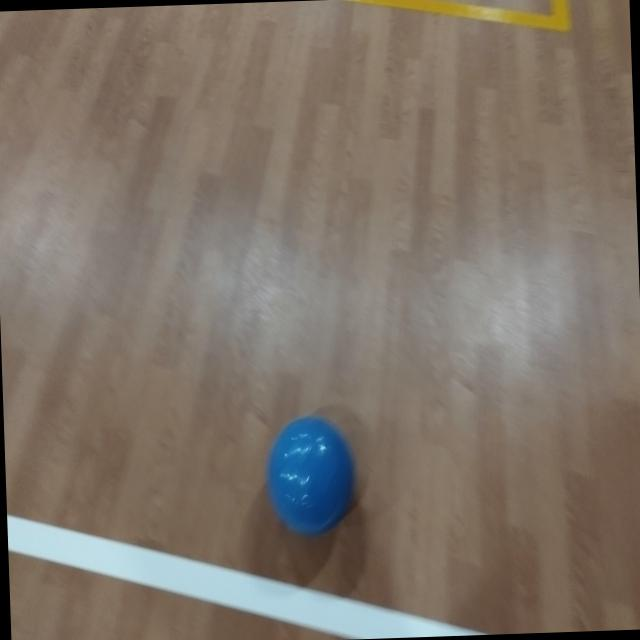blue_ball: (266, 413, 361, 540)
